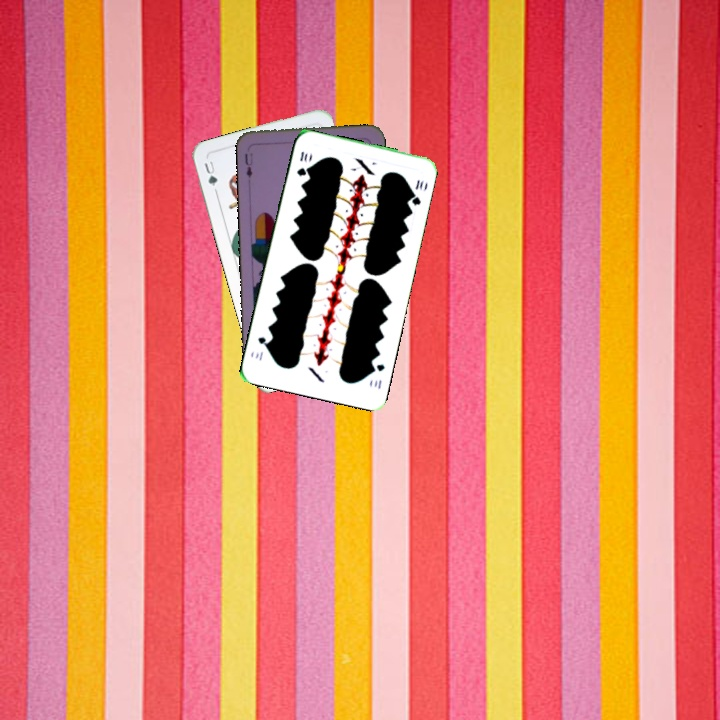EU: (241, 149, 255, 180)
G10: (367, 360, 387, 392), (293, 147, 311, 179)
GU: (200, 157, 220, 195)
